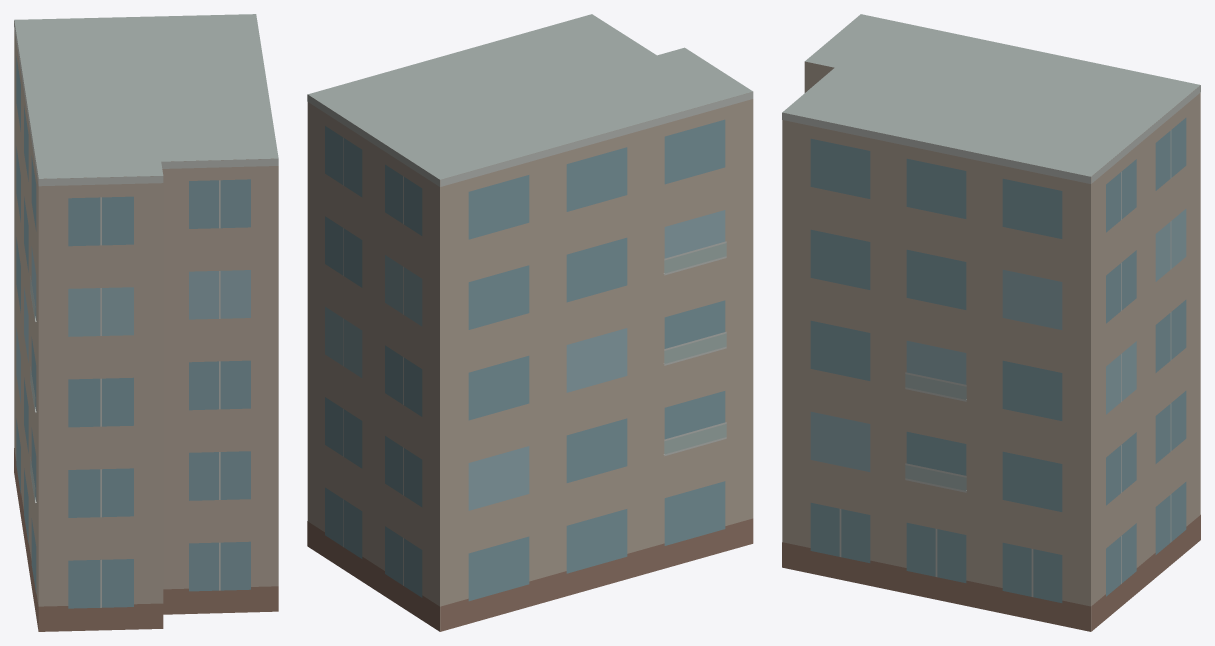
File: survey-upis-32533655.glb
The picture shows the model from 3 angles, left to right: view 1: azimuth 30°, elevation 25°; view 2: azimuth 150°, elevation 25°; view 3: azimuth 270°, elevation 25°; orthographic projection.
Parts seen in each view (by area): view 1: survey-upis-32533655.tmp; view 2: survey-upis-32533655.tmp; view 3: survey-upis-32533655.tmp.
Part boxes in pixels (box(x1,y1,x2,y2)): survey-upis-32533655.tmp: box(14, 14, 278, 631); survey-upis-32533655.tmp: box(307, 14, 753, 631); survey-upis-32533655.tmp: box(782, 14, 1200, 631).
Size of the model in its own units: 11.59 by 15.1 by 12.6.
